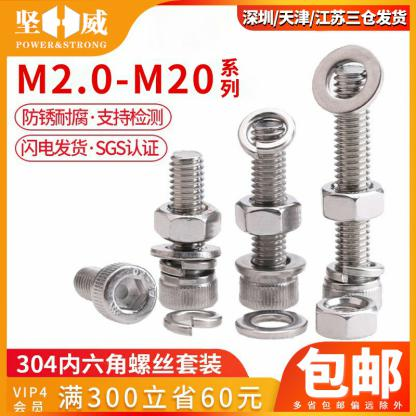FOD: (63, 260, 160, 325), (309, 44, 384, 116), (234, 104, 296, 158), (313, 292, 381, 341), (234, 308, 309, 339), (160, 308, 226, 338)
